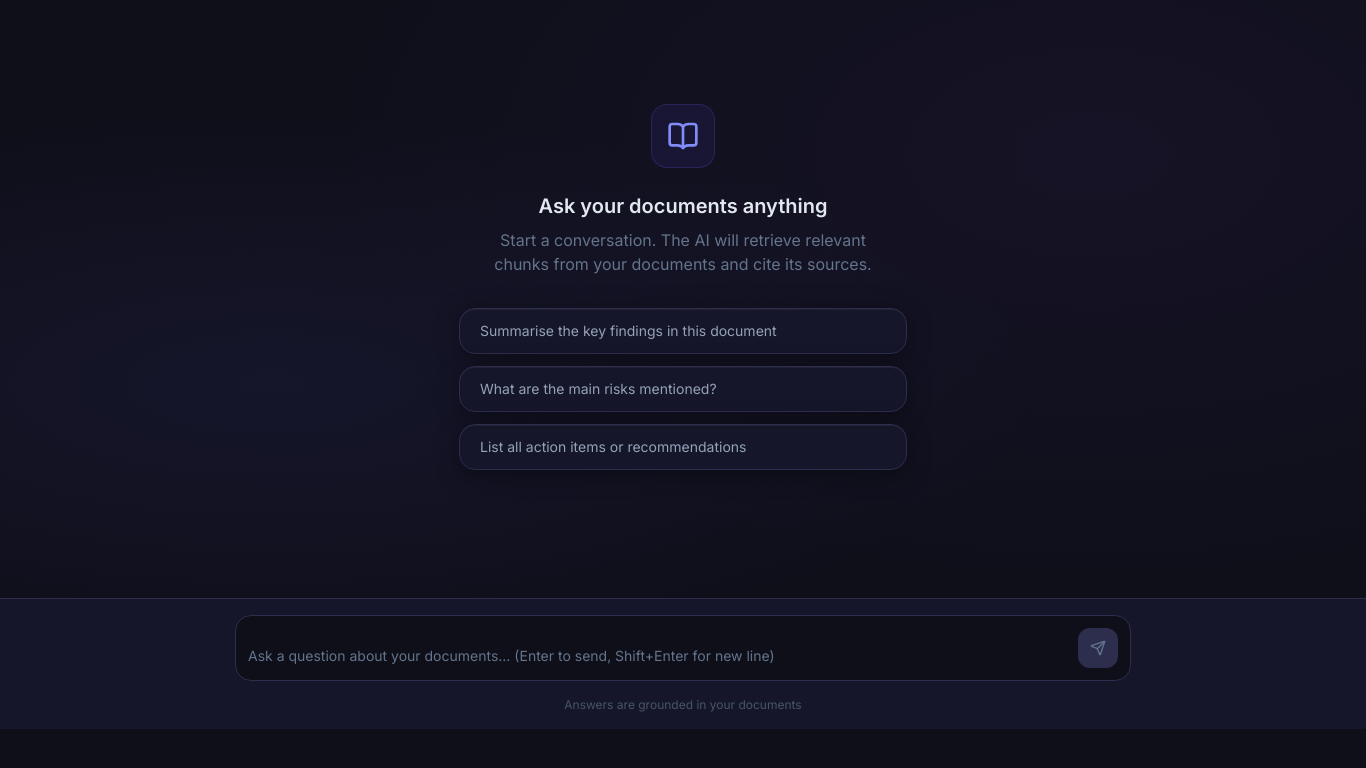
Test case: ChatPanel streaming (Phase F) › sanitised markdown: embedded HTML in an answer is not rendered as an element
Replace the text in the text box labelled "Ask a question" with "Hi?" at (657, 657), box [248,645,1066,668]
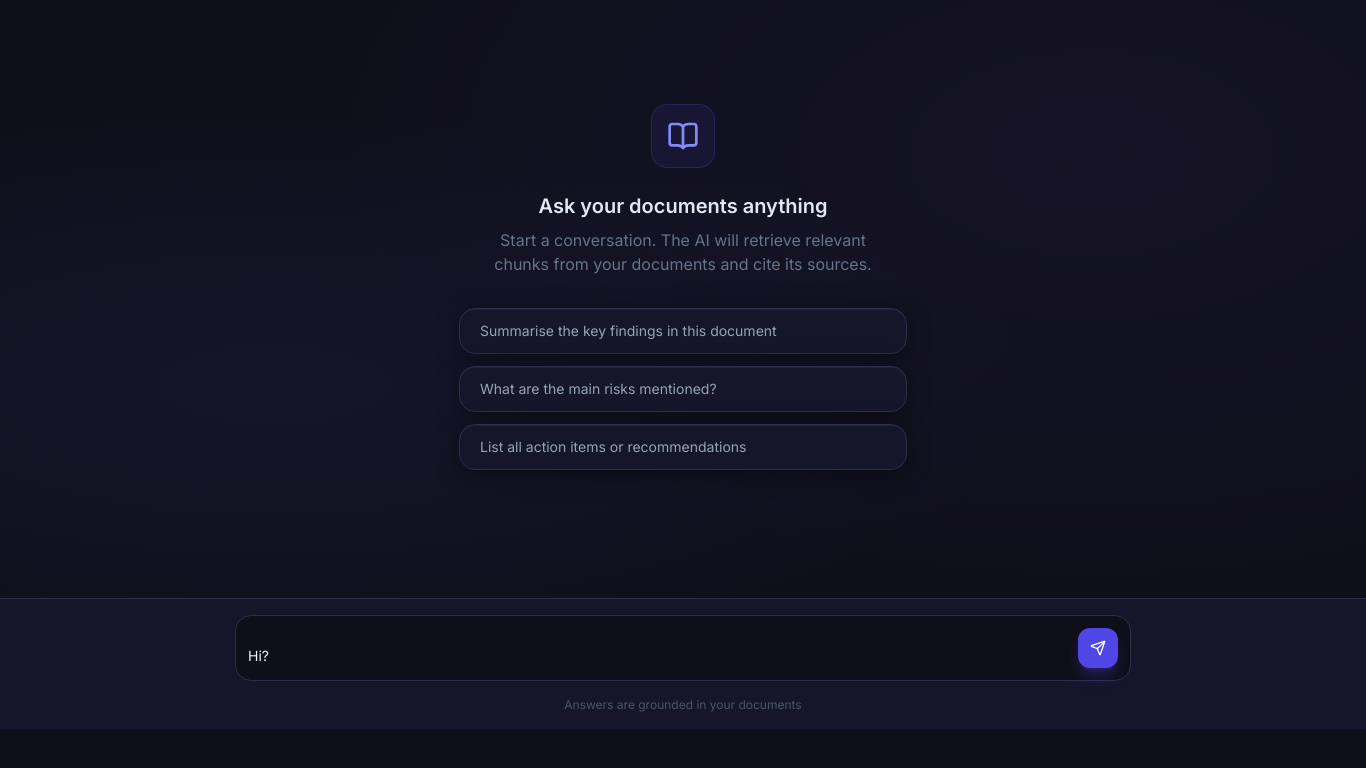
Click the button named "Send message" at (1098, 648), box [1078,628,1118,668]
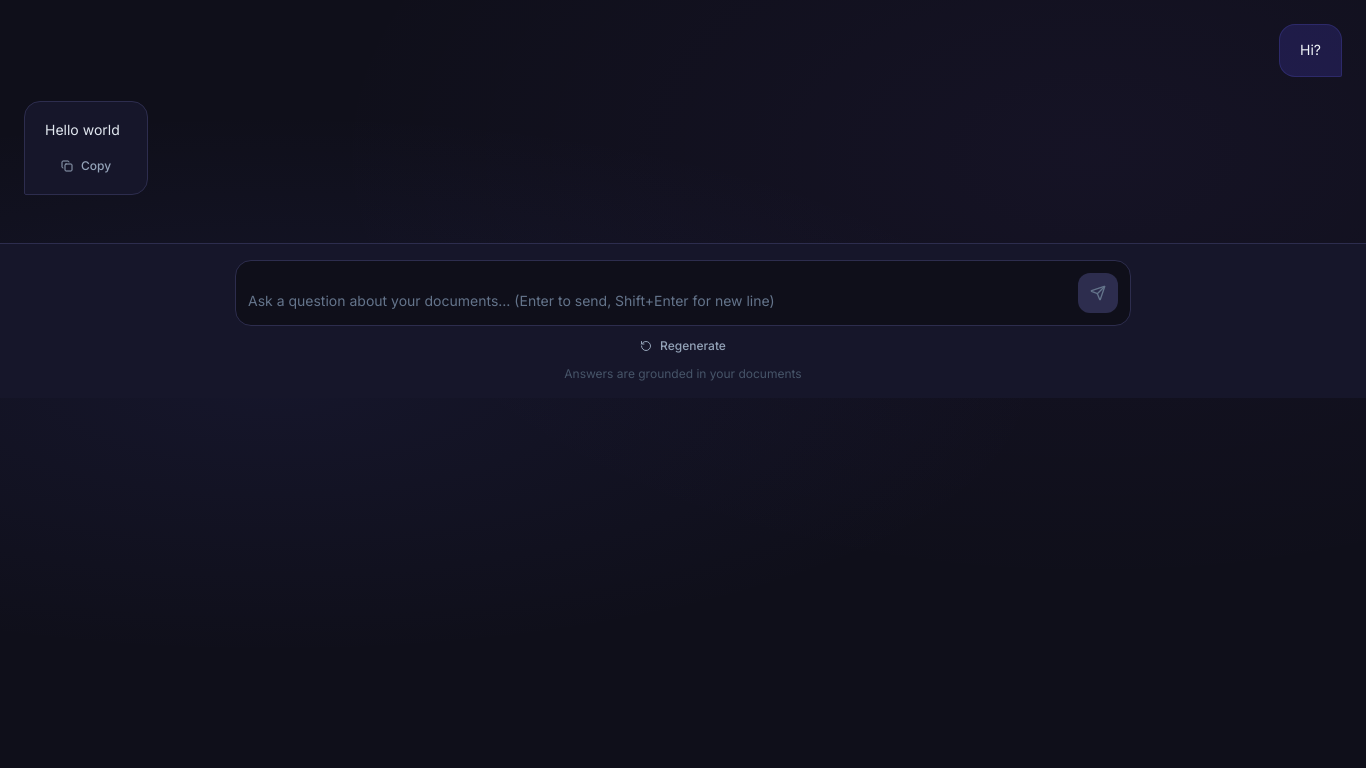
Now the text "Hello world" is shown, box [45,118,127,142]
